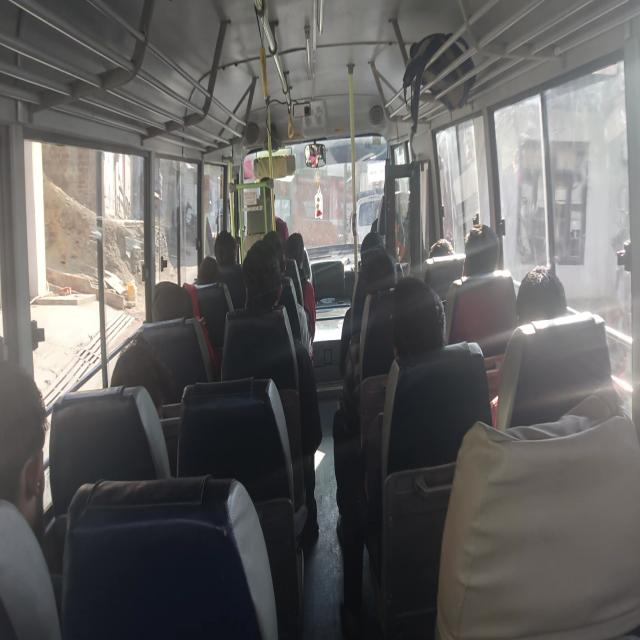person: (2, 333, 60, 538), (106, 328, 179, 412), (388, 278, 446, 358), (510, 254, 572, 328), (242, 239, 280, 316), (150, 277, 203, 330), (356, 244, 394, 304), (462, 221, 500, 279), (354, 206, 400, 251), (195, 247, 229, 296), (209, 224, 245, 265), (374, 171, 407, 212), (425, 232, 462, 268), (254, 172, 284, 208), (284, 222, 305, 264), (260, 232, 287, 260)
